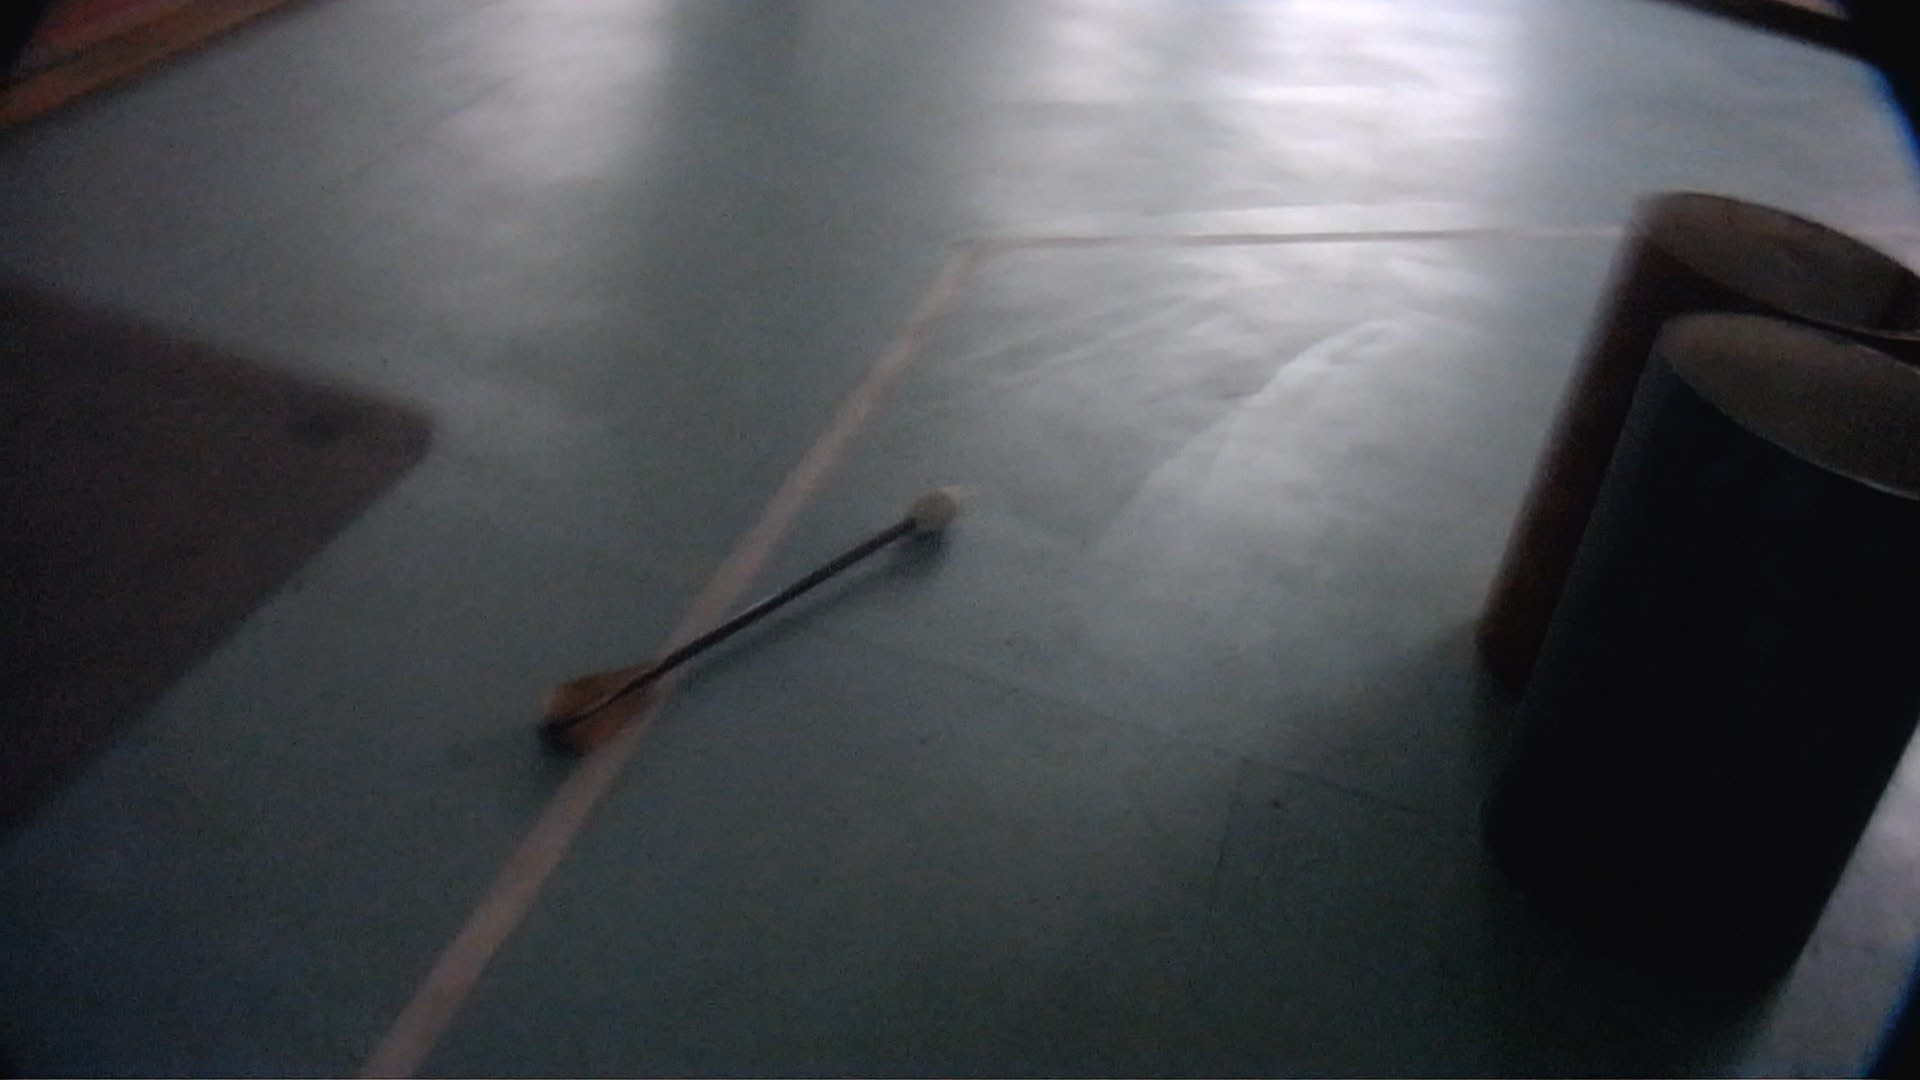arrow: (535, 487, 963, 749)
arrowFront: (902, 487, 963, 541)
